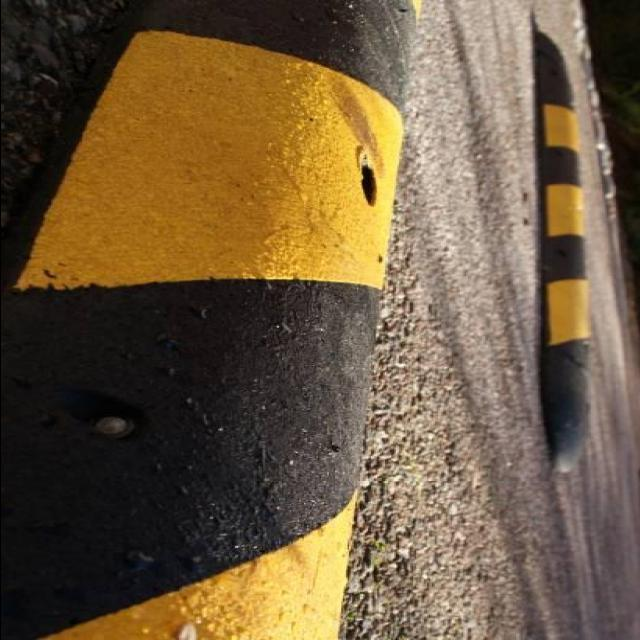speedbreaker: (0, 0, 423, 640), (532, 15, 598, 471)
